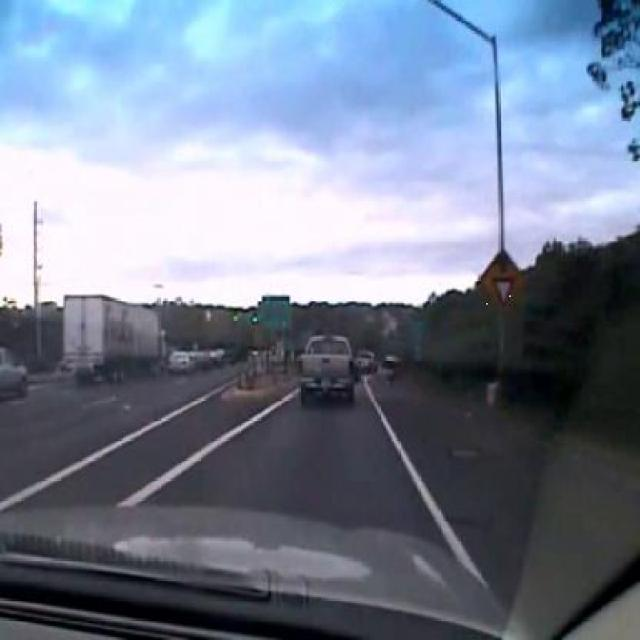yieldAhead: (475, 248, 526, 317)
